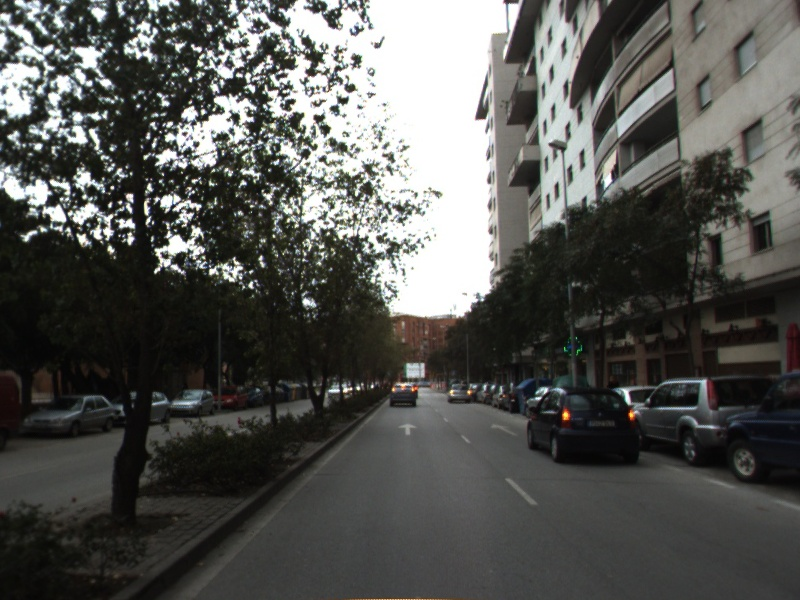STRAIGHT: (488, 421, 523, 438), (396, 421, 420, 437)
